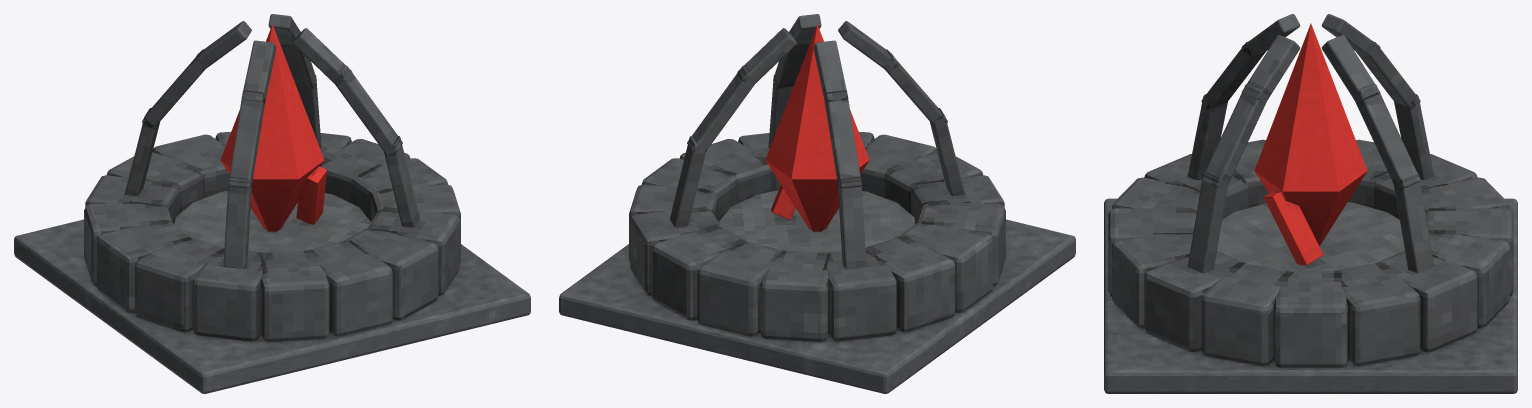
File: arena_mine_shrine.glb
3 renders of one model, left to right at view 1: azimuth 30°, elevation 25°; view 2: azimuth 150°, elevation 25°; view 3: azimuth 270°, elevation 25°, orthographic. The views are drawn at different scales.
Parts seen in each view (by area): view 1: arena_mine_shrine.001; view 2: arena_mine_shrine.001; view 3: arena_mine_shrine.001.
Boxes of the visible parts, left/top/right/bottom form: arena_mine_shrine.001: left=14, top=14, right=530, bottom=393; arena_mine_shrine.001: left=559, top=14, right=1075, bottom=393; arena_mine_shrine.001: left=1104, top=14, right=1517, bottom=393.
Size of the model in its own units: 1.9 by 1.45 by 1.9.
Materials: 3 (3 with a texture image).
